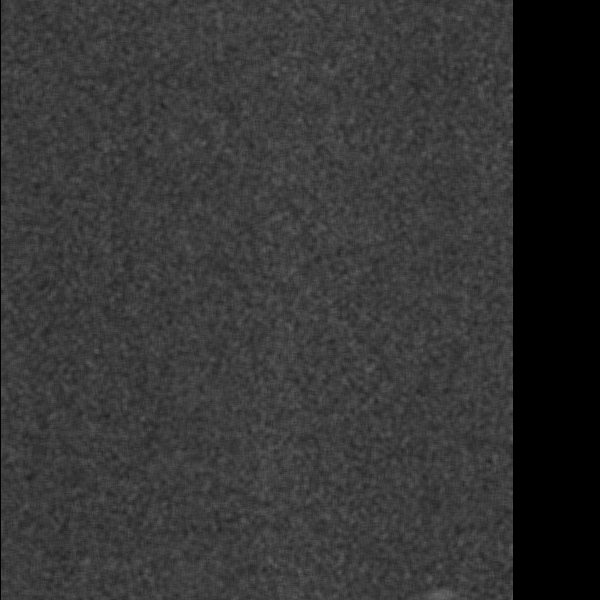spark: (82, 9, 110, 133), (94, 169, 123, 220), (10, 296, 30, 340)
